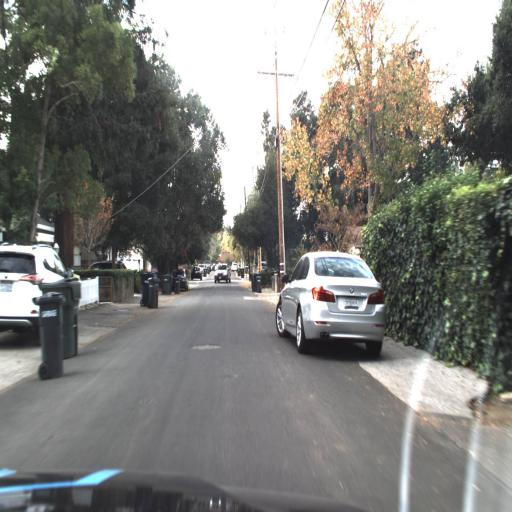car: (272, 246, 390, 352), (0, 242, 75, 348), (83, 253, 128, 281), (214, 264, 230, 283), (174, 269, 188, 289), (188, 266, 202, 282), (256, 260, 268, 274), (229, 261, 238, 273)
